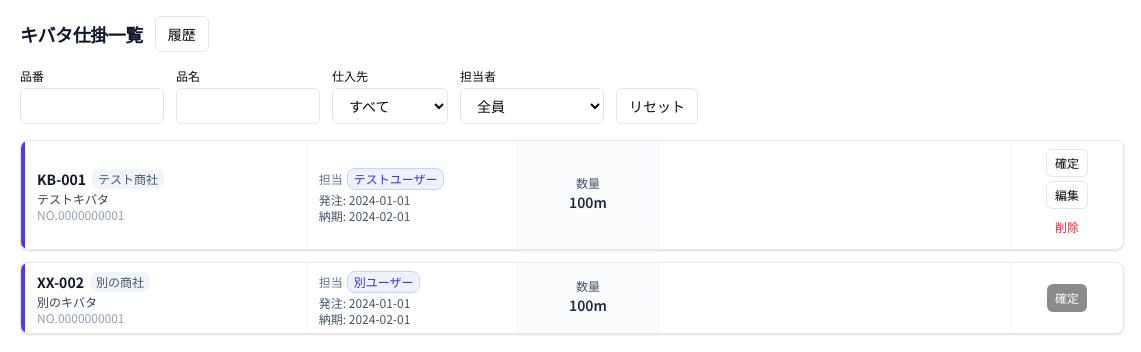
Scenario: GrayFabricOrderTable フィルター › リセットを押すと絞り込みが解除される
Type "KB" into the field labelled "品番" at (92, 106), box 20,88 -> 164,124
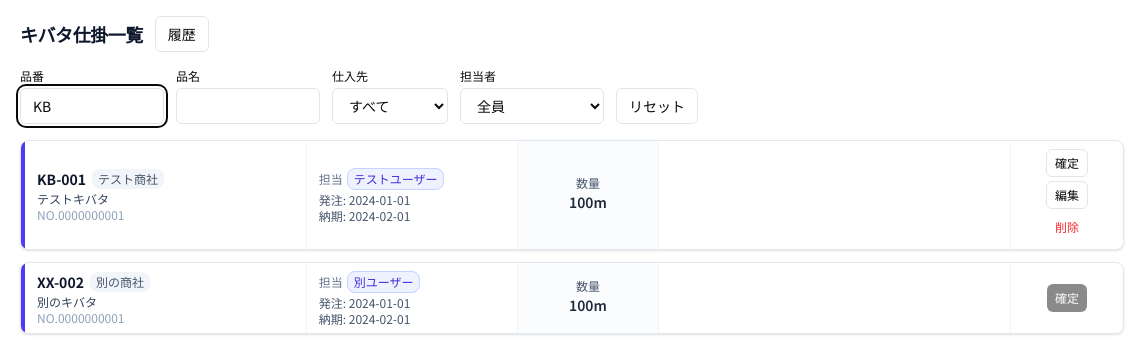
Select "テストユーザー" in the dropdown labelled "担当者" at (532, 106), box 460,88 -> 604,124
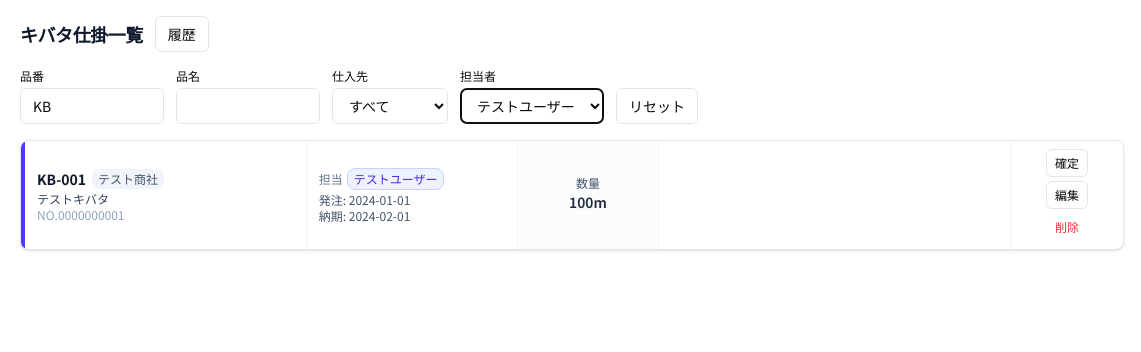
Select "別の商社" in the dropdown labelled "仕入先" at (390, 106), box 332,88 -> 448,124
Wait 300 ms
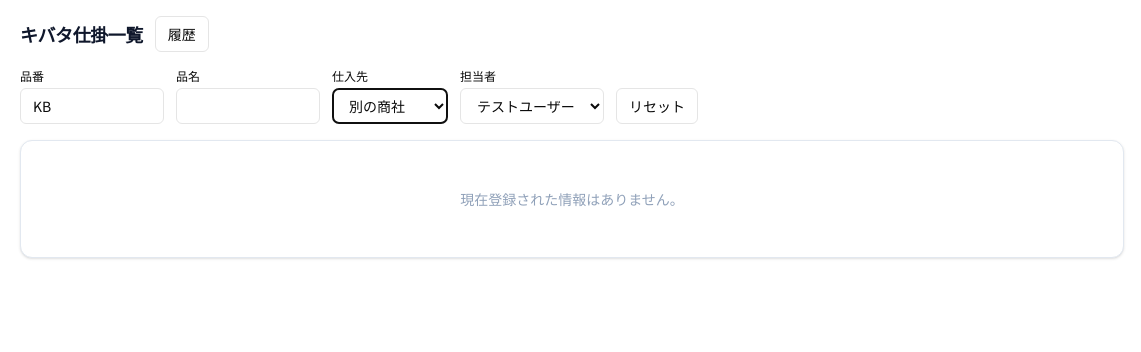
Click the button "リセット" at (657, 106), box 616,88 -> 698,124
Wait 300 ms
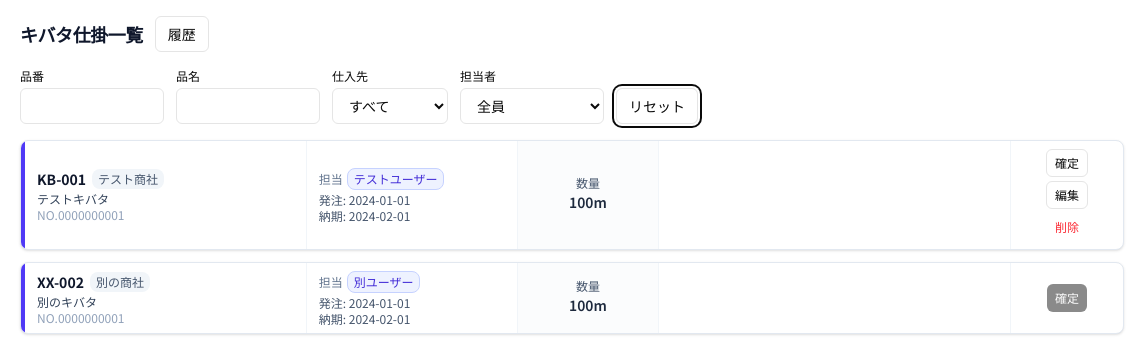
Check: the field labelled "品番" is empty, box 20,88 -> 164,124
Check: the text "KB-001" is shown, box 37,172 -> 86,186
Check: the text "XX-002" is shown, box 37,275 -> 84,289
